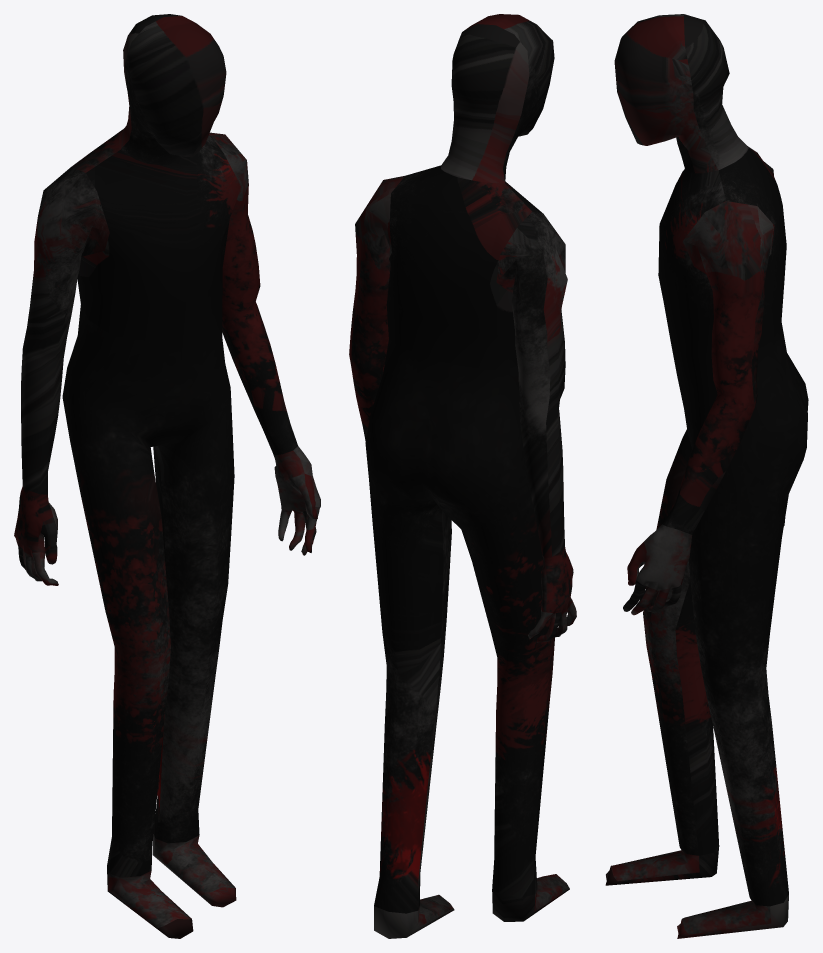
File: Papy (2).fbx
3 views of the same model, side by side, from view 1: azimuth 30°, elevation 25°; view 2: azimuth 150°, elevation 25°; view 3: azimuth 270°, elevation 25° (orthographic).
Visible parts, largest first — view 1: Corps; view 2: Corps; view 3: Corps.
Boxes of the visible parts, box(x1,y1,x2,y2) form: Corps: box(14, 14, 320, 938); Corps: box(349, 14, 576, 938); Corps: box(605, 14, 808, 938).
Bounding box in the file's own units: 50.55 × 179 × 36.9.
